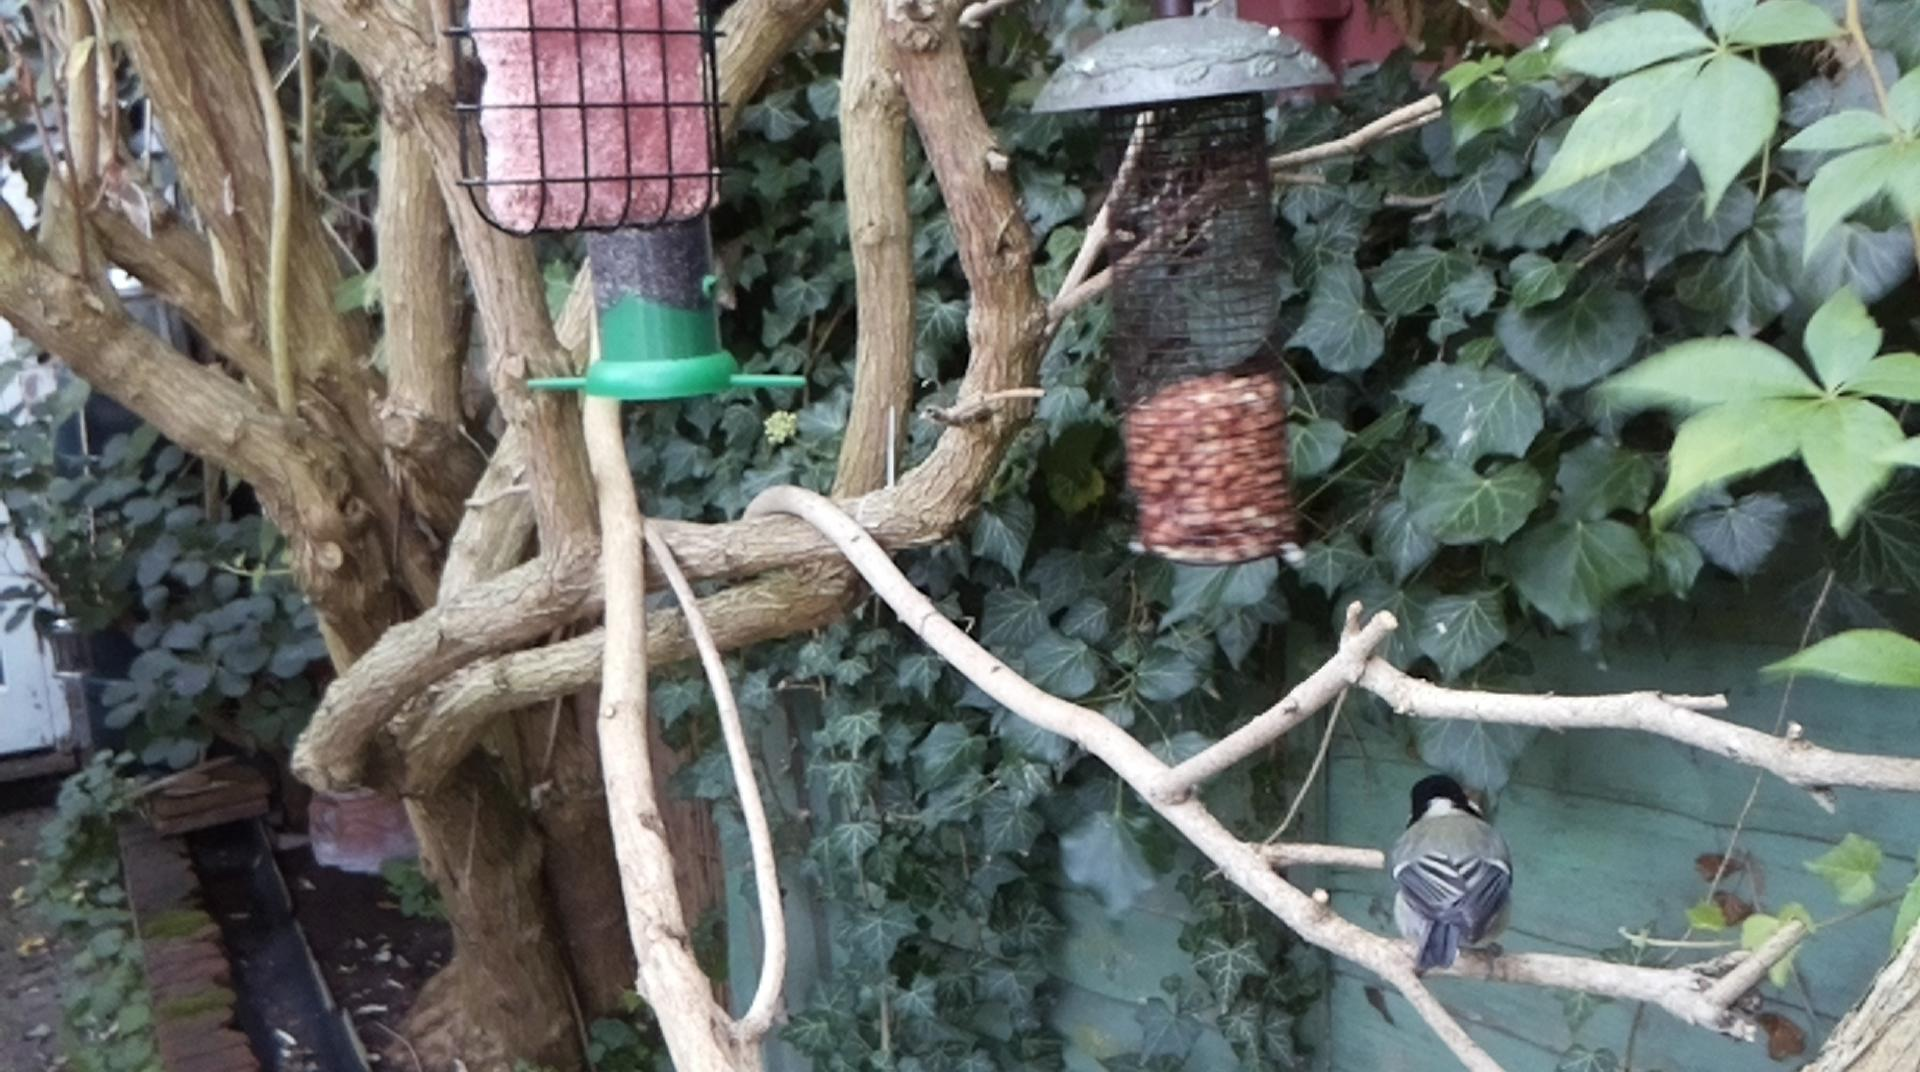great tit: (1387, 771, 1514, 984)
